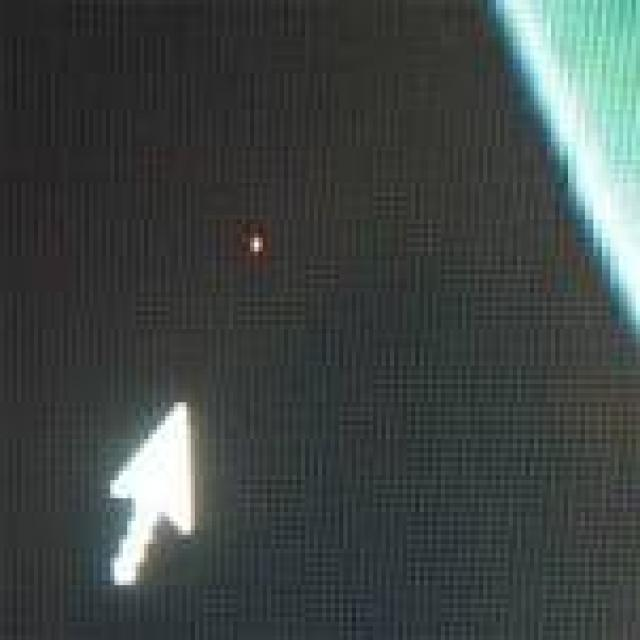dead_pixel: (232, 208, 282, 279)
